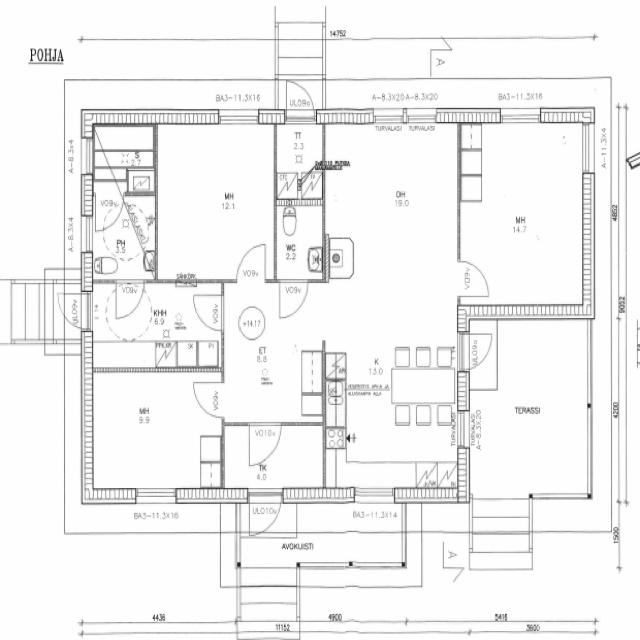door: (275, 116, 324, 196), (108, 275, 146, 330), (244, 486, 284, 537), (190, 283, 226, 334), (248, 419, 284, 470), (232, 238, 270, 283), (282, 77, 320, 121), (276, 274, 310, 323), (190, 375, 227, 419), (57, 284, 89, 332), (458, 256, 492, 300), (460, 331, 494, 371), (373, 108, 407, 130)
window: (578, 119, 597, 180), (133, 484, 180, 506), (498, 105, 542, 127), (351, 485, 398, 505), (216, 108, 261, 128), (79, 201, 94, 258), (405, 106, 439, 130), (80, 130, 96, 178)
zone: (322, 130, 460, 470), (459, 118, 593, 316), (464, 315, 593, 501), (156, 120, 276, 282), (83, 368, 224, 496), (328, 397, 462, 496), (86, 188, 158, 280), (88, 121, 158, 187), (276, 200, 326, 280), (276, 123, 325, 198)
